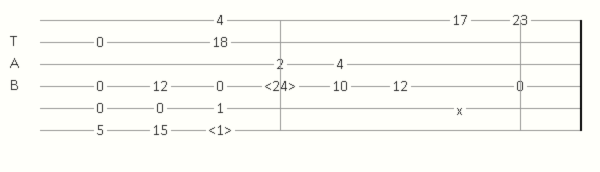0: (96, 101, 108, 115), (96, 35, 108, 49), (96, 79, 108, 93), (156, 101, 168, 115), (216, 79, 228, 93), (516, 79, 528, 93)
1: (216, 101, 228, 115)
10: (332, 79, 352, 93)
12: (152, 79, 172, 93), (392, 79, 412, 93)
15: (152, 123, 172, 137)
17: (452, 13, 472, 27)
18: (212, 35, 232, 49)
2: (276, 57, 288, 71)
23: (512, 13, 532, 27)
4: (216, 13, 228, 27), (336, 57, 348, 71)
5: (96, 123, 108, 137)
harmonic: (264, 79, 300, 93), (208, 123, 236, 137)
x: (456, 103, 467, 114)
